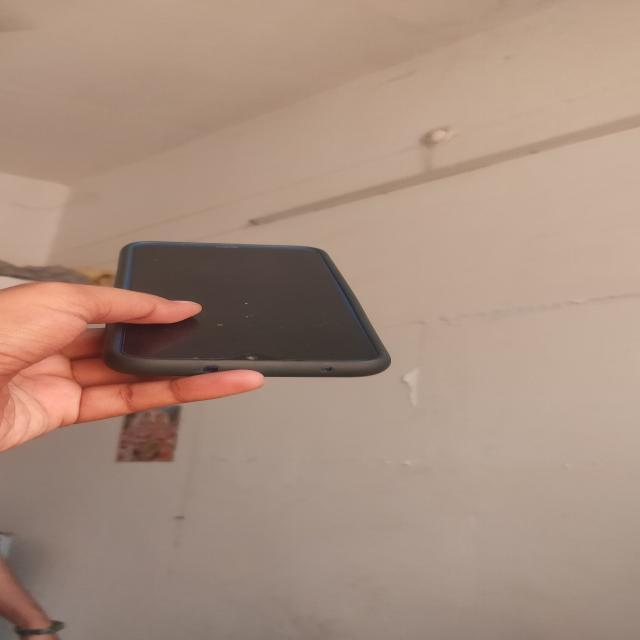Phone: (101, 238, 395, 381)
